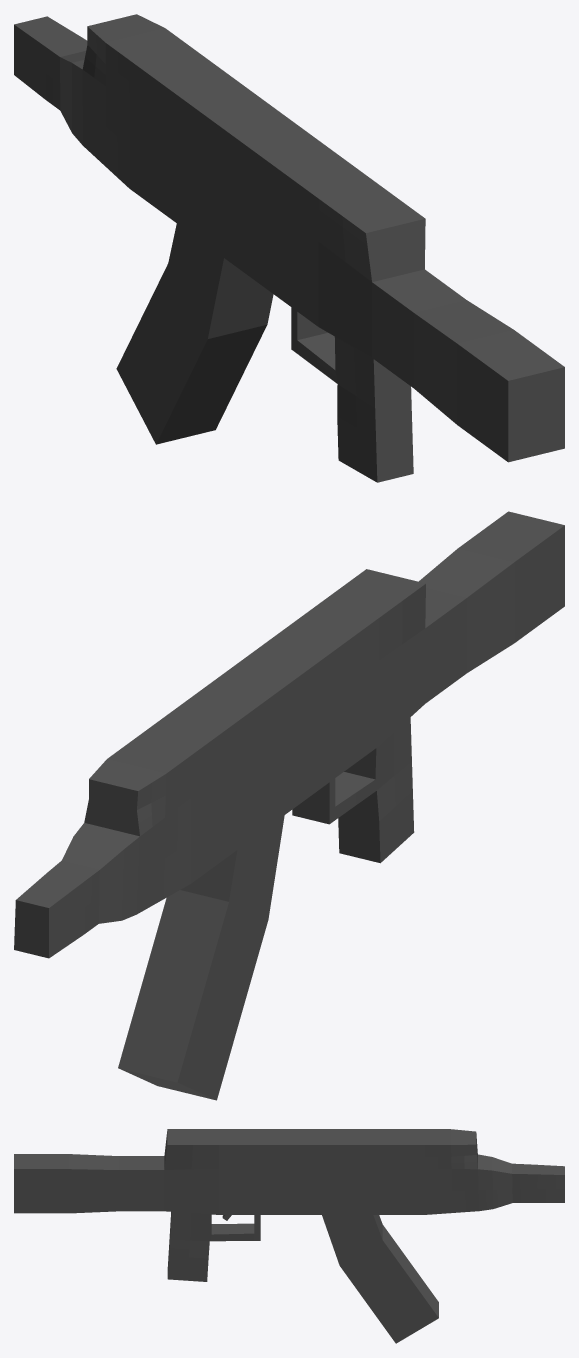
The model's file is ak47 com cor.fbx.
The picture shows the model from 3 angles, top to bottom: view 1: azimuth 30°, elevation 25°; view 2: azimuth 150°, elevation 25°; view 3: azimuth 270°, elevation 25°; orthographic projection. The views are drawn at different scales.
Visible parts, largest first — view 1: Cube.001; view 2: Cube.001; view 3: Cube.001.
Boxes of the visible parts, x1=… form: Cube.001: x1=14, y1=14, x2=564, y2=482; Cube.001: x1=14, y1=511, x2=564, y2=1100; Cube.001: x1=14, y1=1129, x2=564, y2=1343.
Bounding box in the file's own units: 146 × 852 × 2140.
2 materials, 2 textured.
